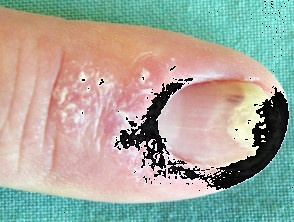Nail_psoriasis: (16, 0, 294, 222)
